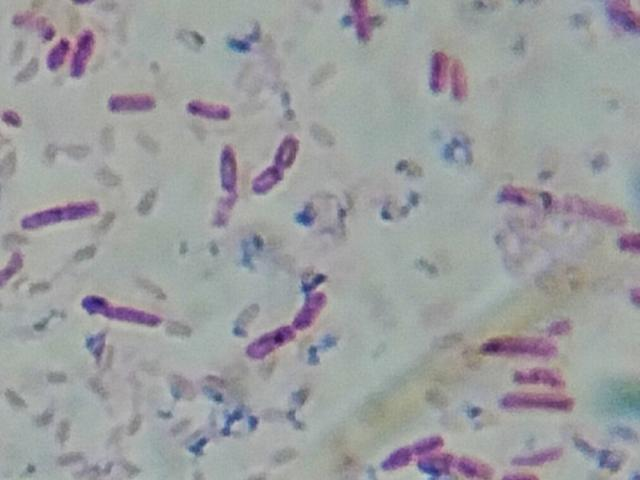E. coli: (496, 177, 627, 221), (80, 294, 161, 334), (254, 134, 303, 198), (24, 200, 107, 229), (483, 329, 554, 362), (247, 320, 294, 368), (504, 391, 572, 417), (293, 292, 330, 335), (346, 0, 376, 49), (512, 365, 570, 390), (427, 452, 487, 476), (69, 21, 93, 78), (102, 89, 157, 113), (186, 92, 229, 122), (424, 45, 450, 91), (219, 141, 241, 193), (450, 54, 472, 103), (513, 447, 559, 470), (45, 34, 68, 70), (609, 228, 640, 253), (412, 427, 438, 452), (389, 444, 410, 471)
